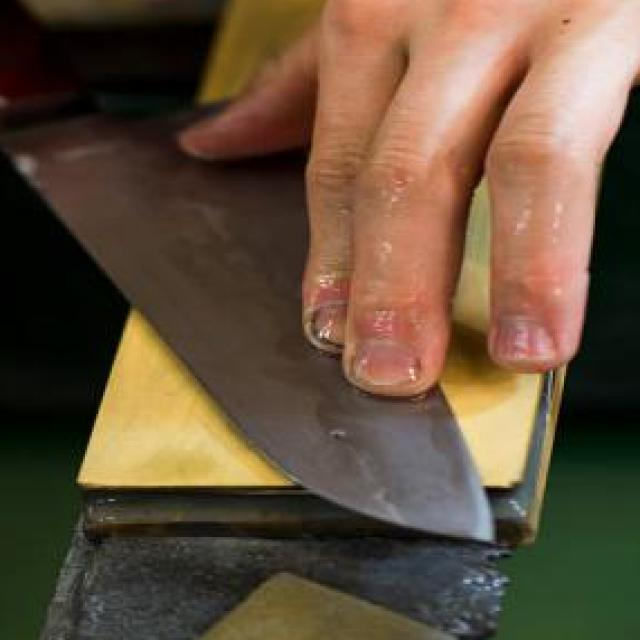knife: (0, 0, 506, 546)
